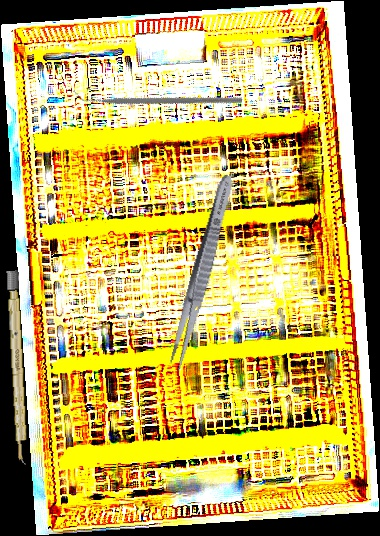Chopper: (71, 15, 245, 176)
Dressing Forceps: (165, 172, 238, 374)
Scalpel Handle: (6, 270, 29, 466)
